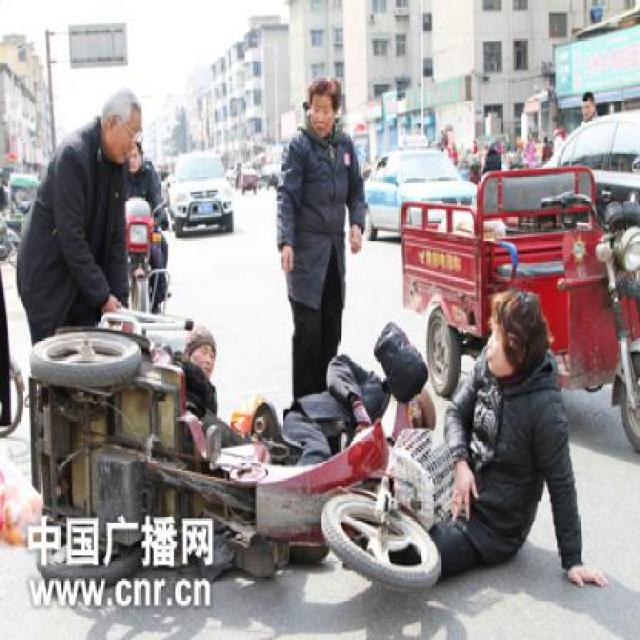fall: (376, 267, 615, 615)
